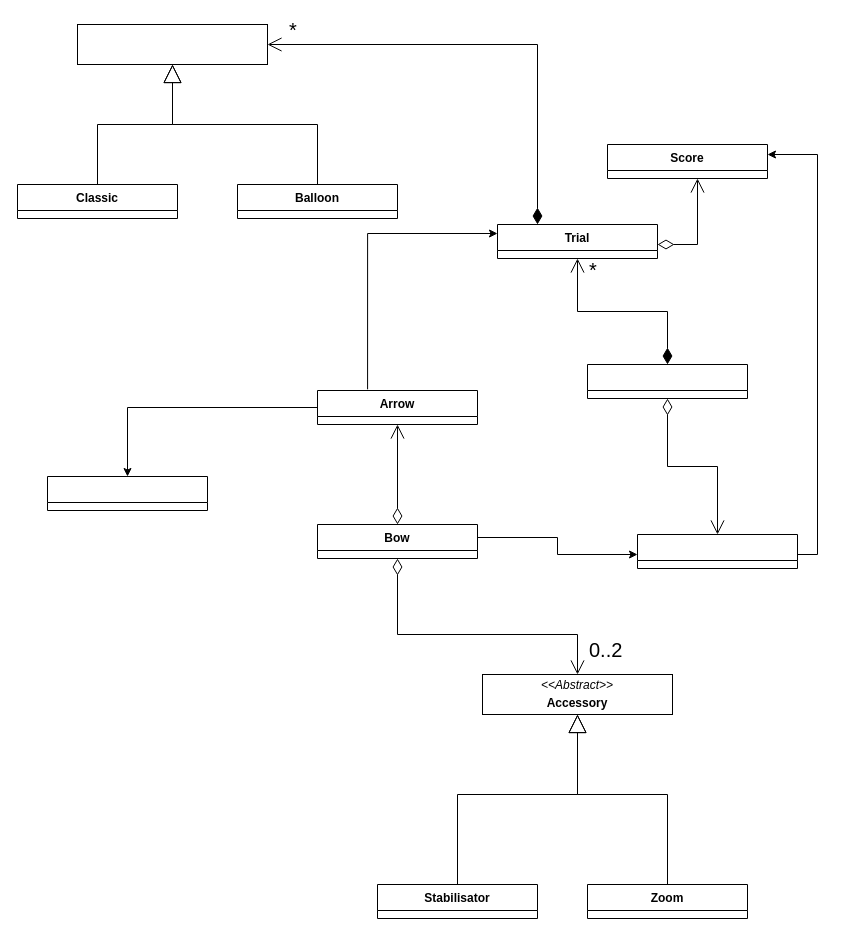
Image size: 843x936. Some labels were removed from this diagram. The shapes that lost their labels are listed below. From the top down, each one's box as (x1, y1, x2, y2) in pixels, then its label:
(76, 24, 268, 64): <<Abstract>> Target
(586, 364, 748, 398): Course
(46, 476, 208, 510): Wind
(636, 534, 798, 568): Scorepot
